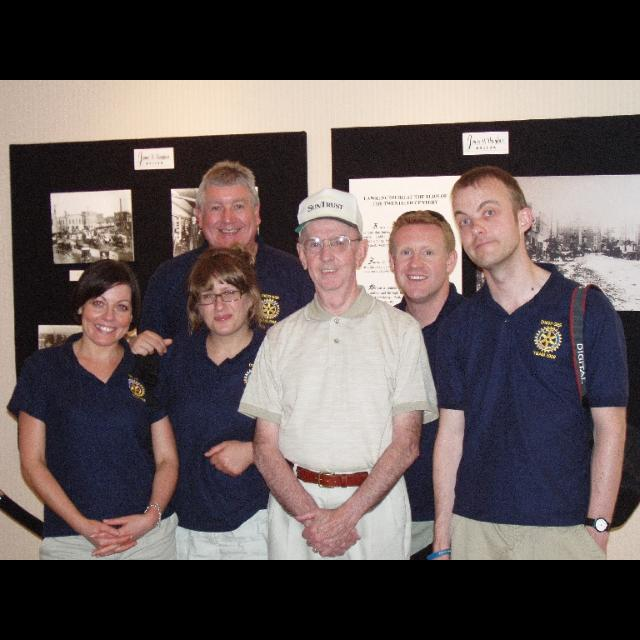head: (451, 166, 534, 270), (192, 161, 264, 253), (388, 212, 460, 304), (294, 209, 370, 291), (76, 260, 140, 348), (196, 247, 258, 337)
